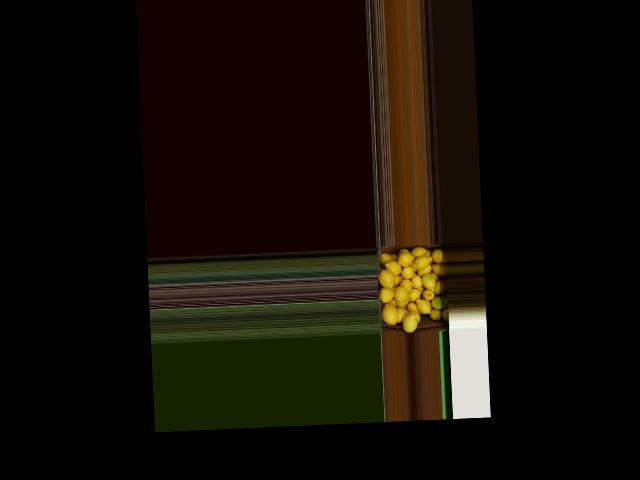lemon: (408, 288, 421, 300)
